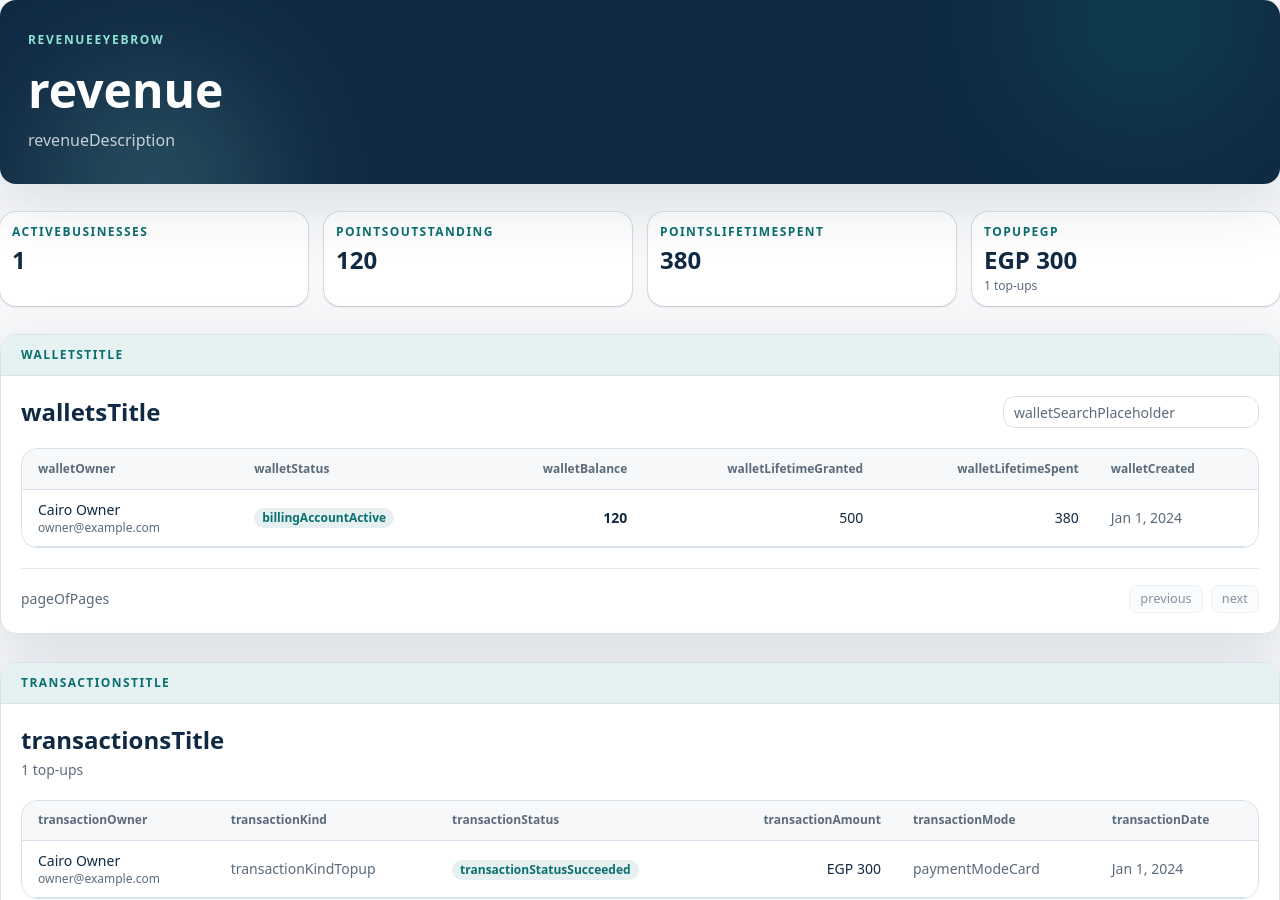
Test: AdminRevenuePage › surfaces refresh failures after the initial dashboard load
The width and height of the screenshot is (1280, 900).
Type "missing" into the field named "walletSearchLabel". click: x=1131, y=412
box: [1003, 396, 1259, 428]
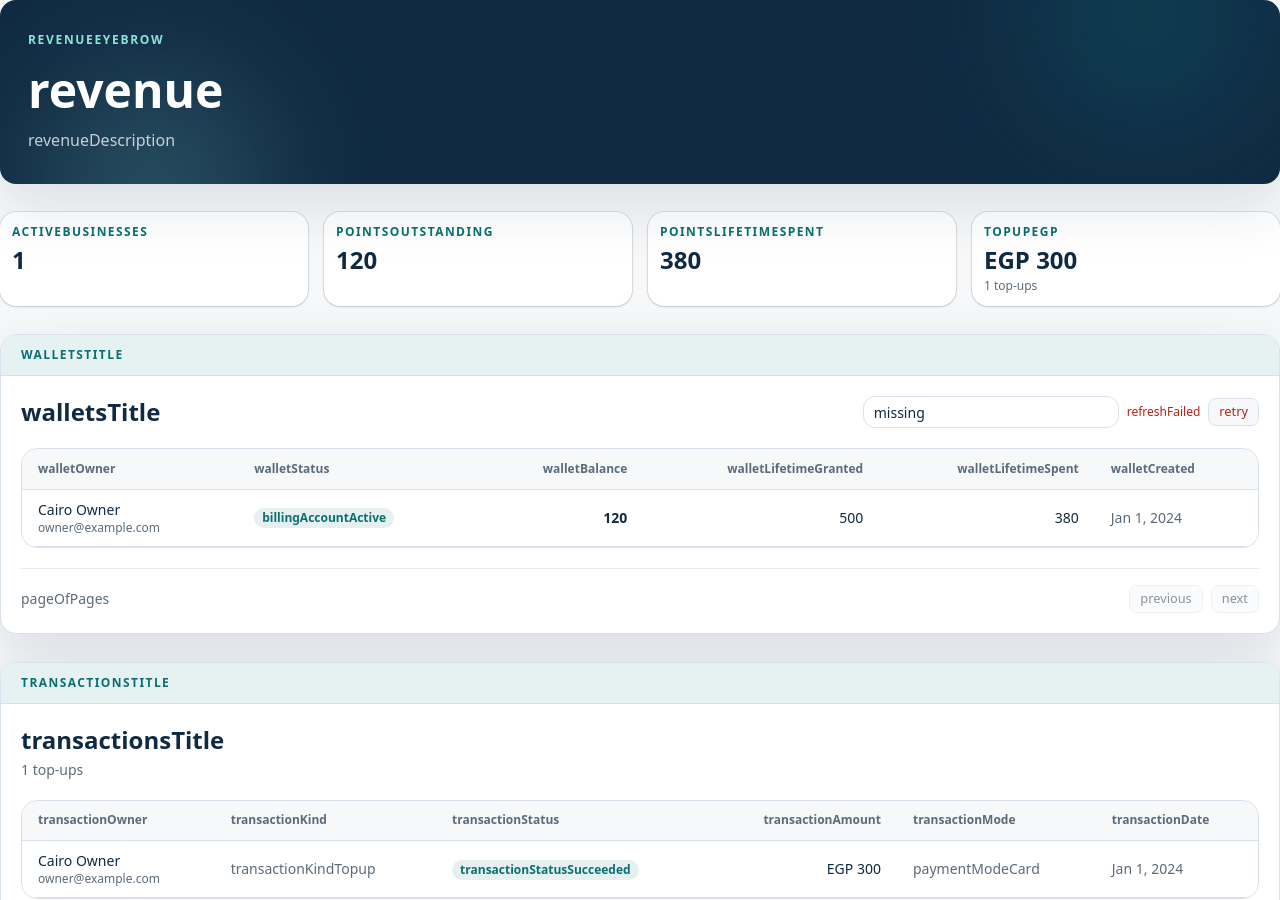
Expected: the message shows "refreshFailed", [1127, 403, 1200, 420]
